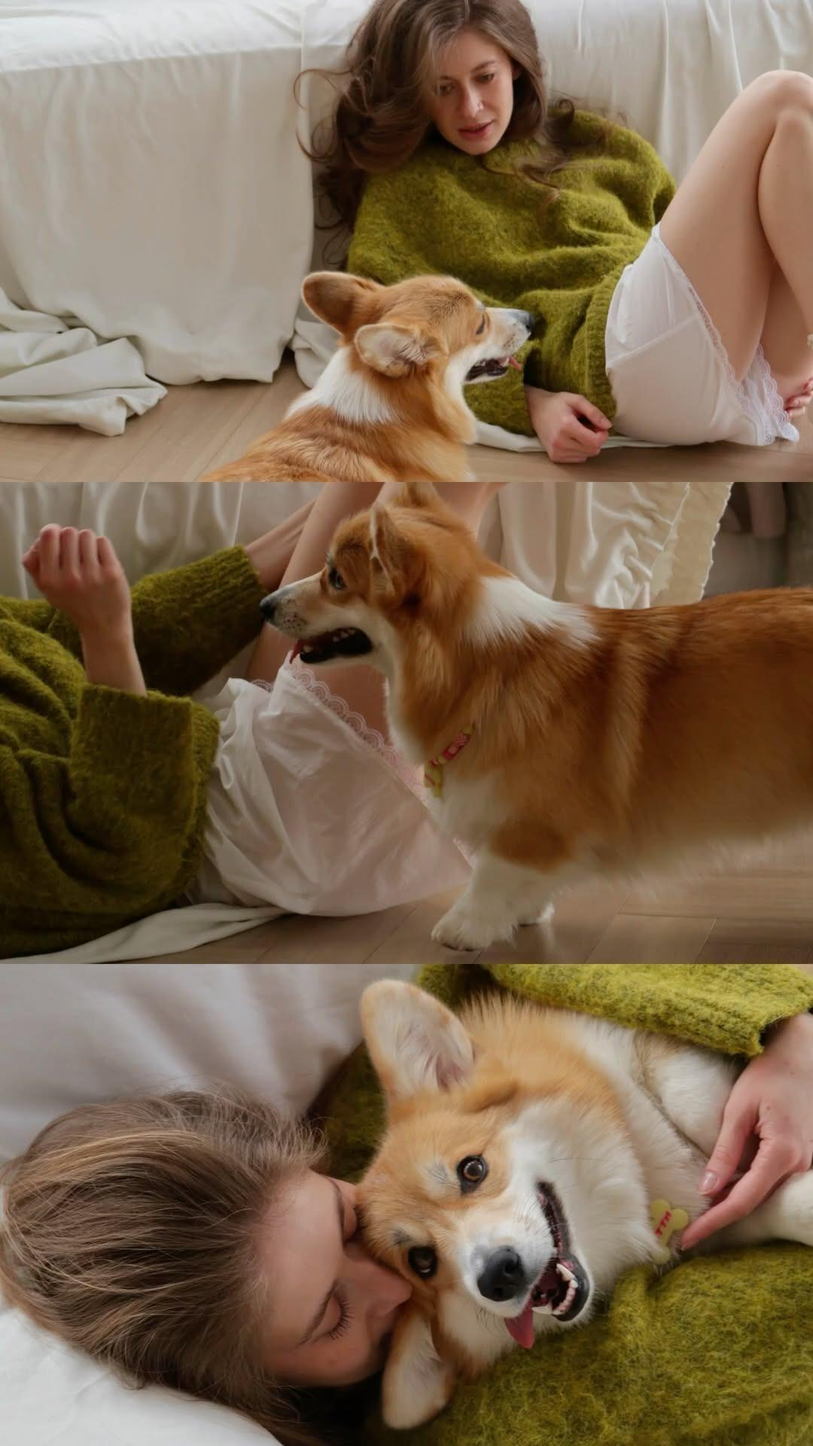adult_dog: (259, 482, 813, 952), (355, 976, 813, 1429), (199, 270, 534, 482)
non-dog: (0, 964, 813, 1446), (294, 0, 813, 466), (0, 482, 498, 959)
